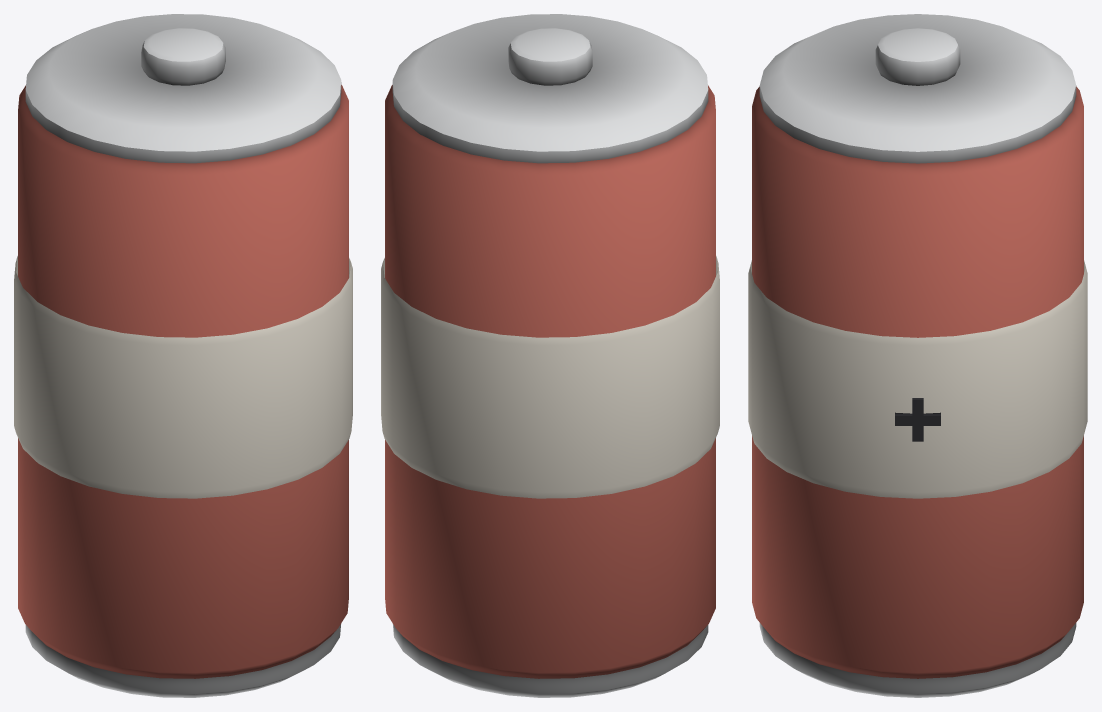
The model's file is nd_battery.glb.
3 renders of one model, left to right at view 1: azimuth 30°, elevation 25°; view 2: azimuth 150°, elevation 25°; view 3: azimuth 270°, elevation 25°, orthographic.
Parts seen in each view (by area): view 1: PART; view 2: PART; view 3: PART.
Boxes of the visible parts, x1,y1,x2,y2 form: PART: (14, 14, 352, 697); PART: (381, 14, 719, 697); PART: (748, 14, 1087, 697).
Size of the model in its own units: 0.089 by 0.17 by 0.088.
